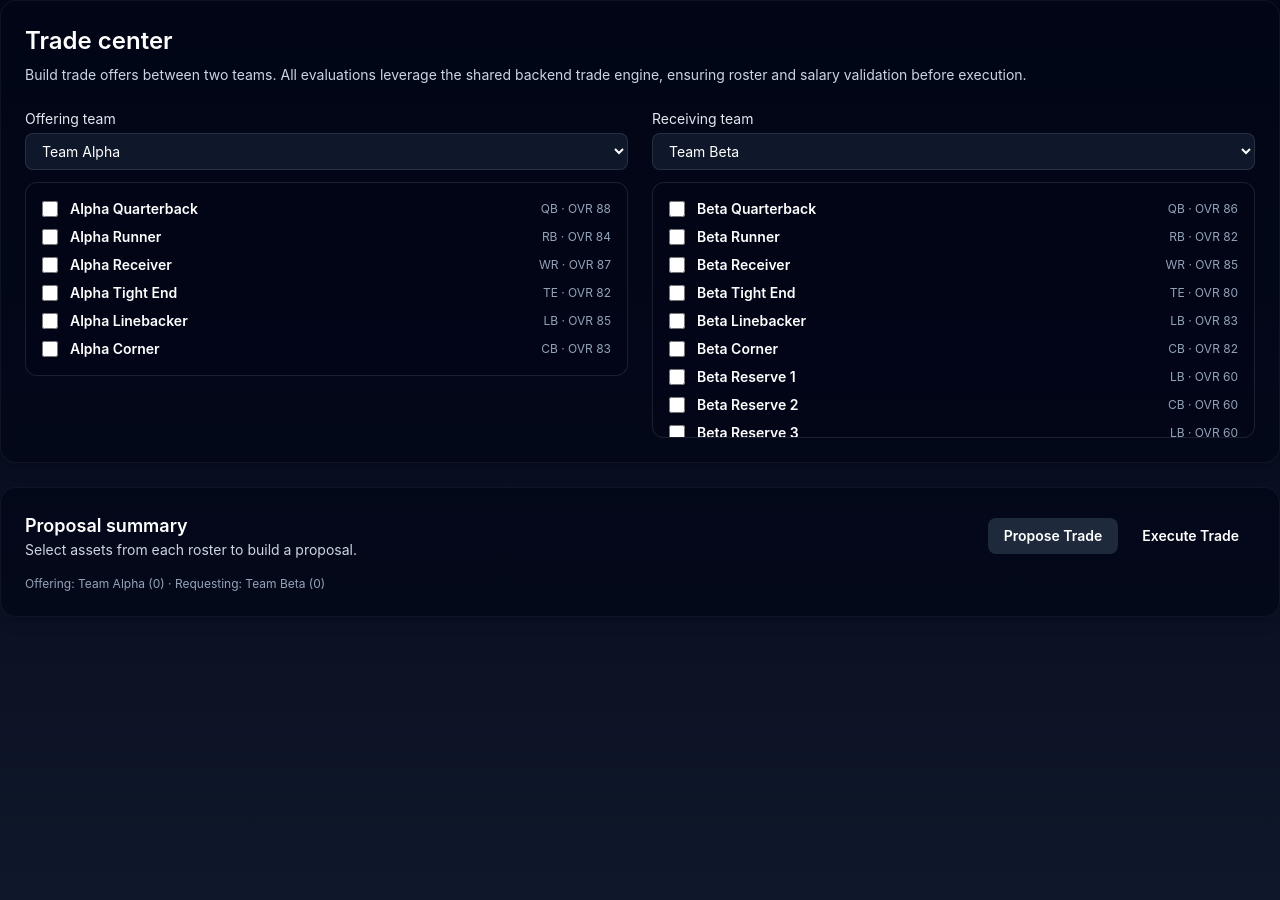
Test: TradeCenterPage › blocks trades that overflow a roster
Click the checkbox labelled "Alpha Linebacker". click: (50, 321)
box: 42,313 -> 58,329
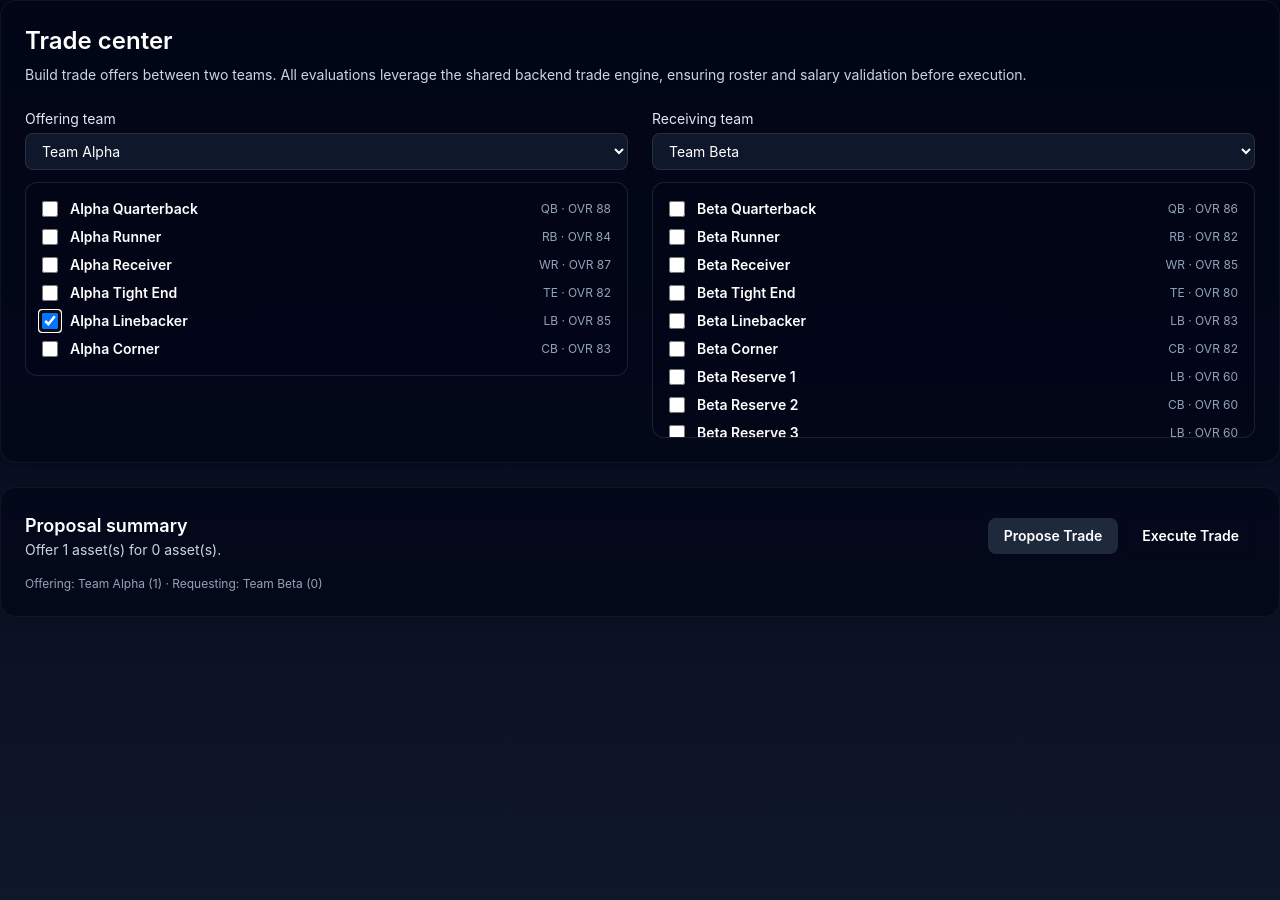
Click the checkbox labelled "Alpha Corner". click: (50, 349)
box: 42,341 -> 58,357
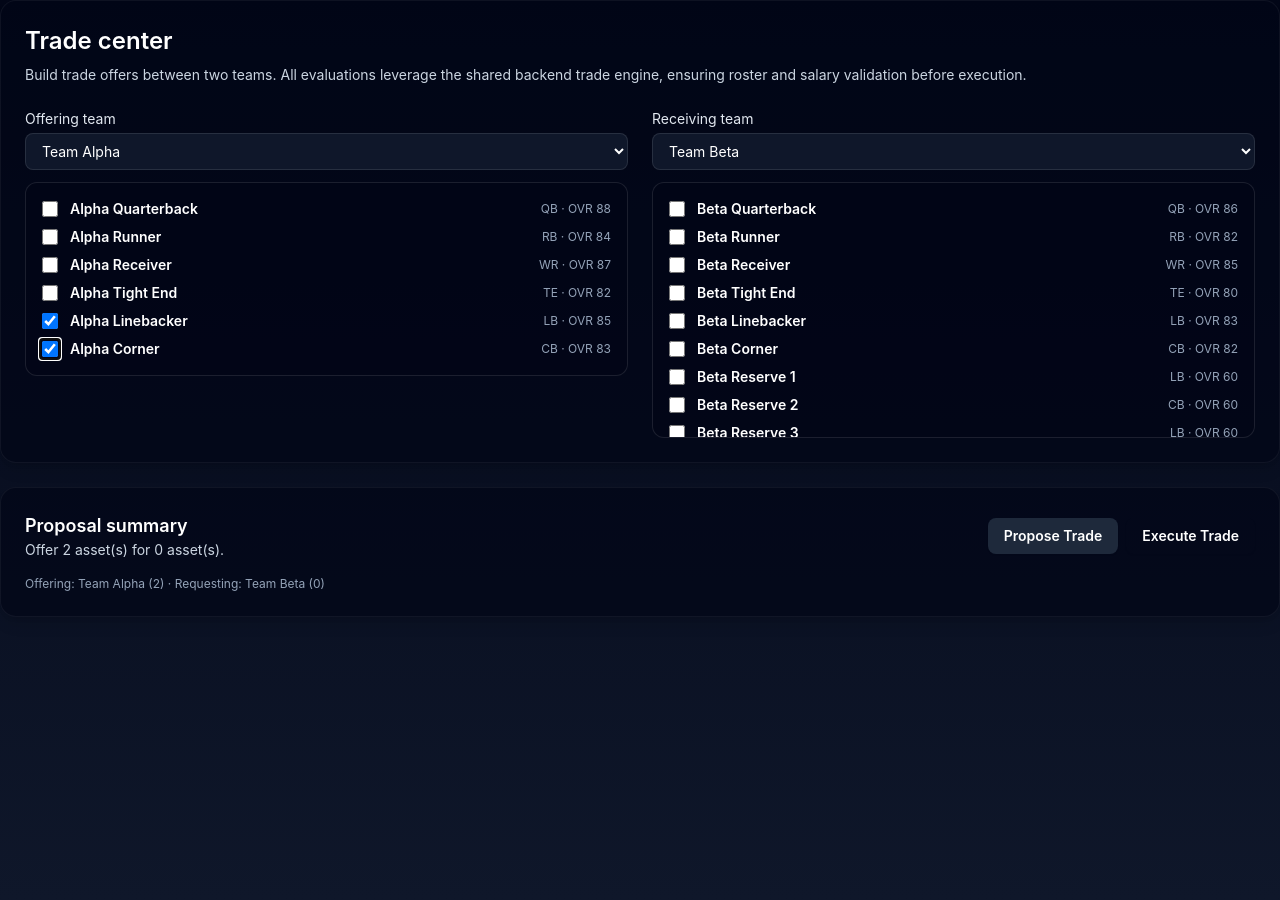
Click the checkbox labelled "Beta Tight End". click: (677, 293)
box: 669,285 -> 685,301
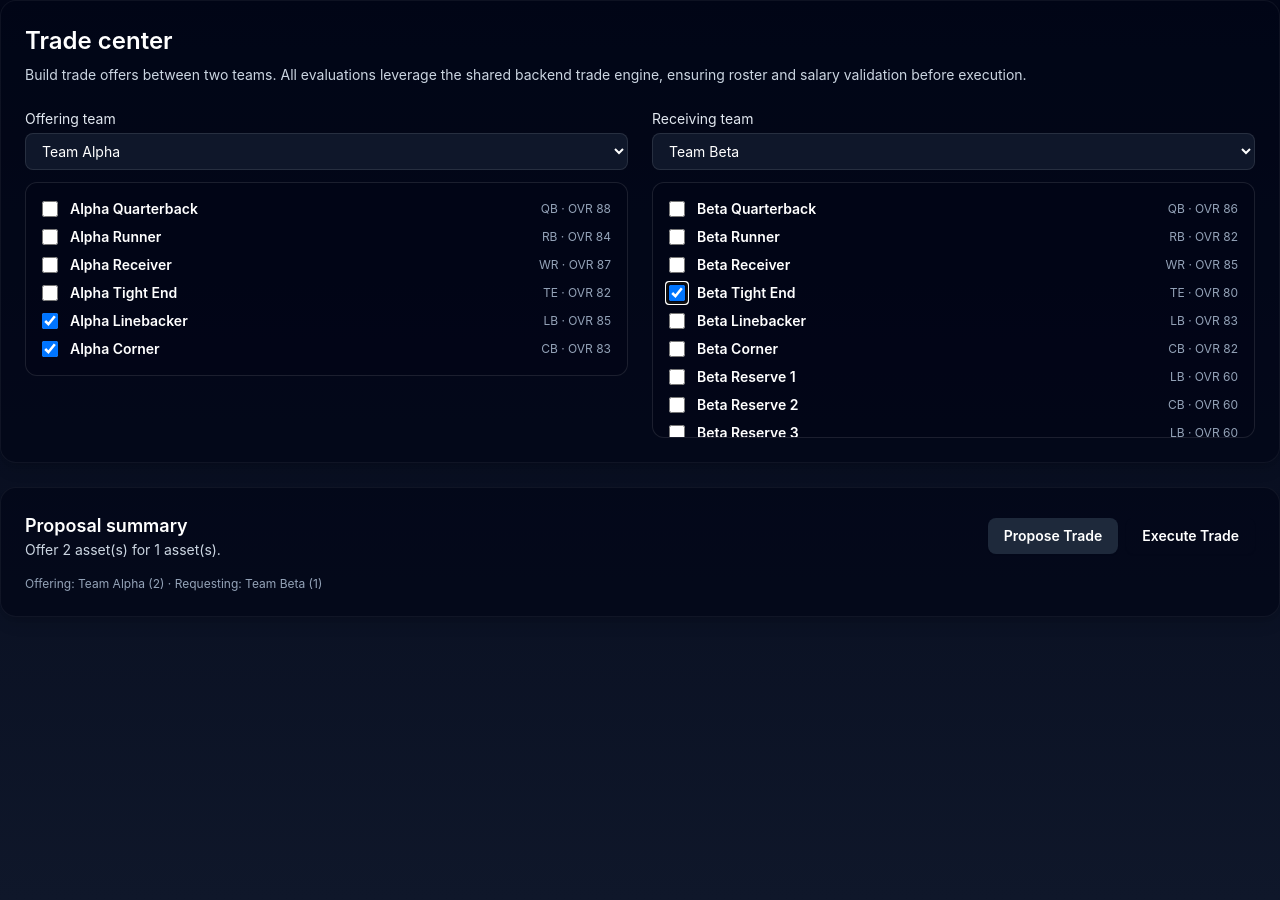
Click the button "Propose Trade". click: (1053, 536)
box: 988,518 -> 1118,554
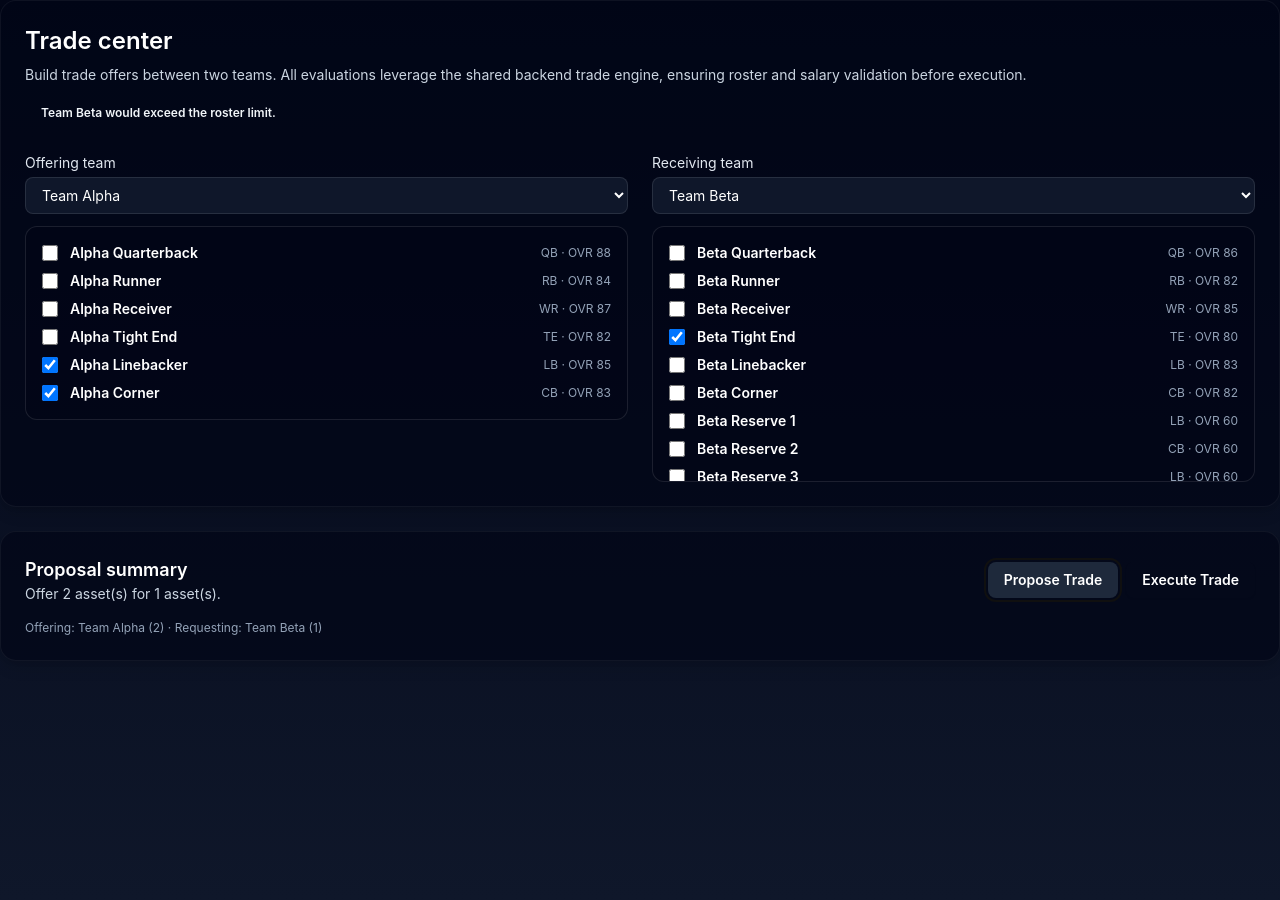
Now the text "Team Beta would exceed the roster limit." is shown, box 41,105 -> 276,120
